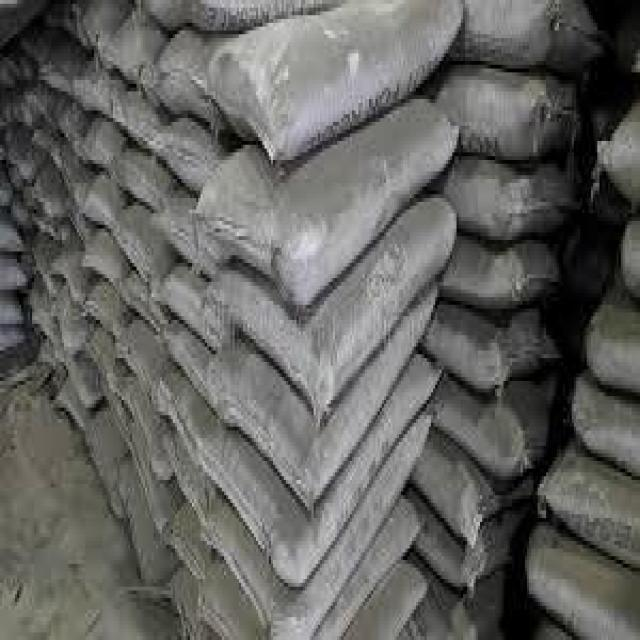gunny_bag: (188, 94, 458, 312), (207, 197, 462, 419), (200, 358, 437, 587), (210, 286, 440, 513), (204, 410, 431, 640), (215, 0, 464, 161), (528, 536, 639, 640), (432, 301, 560, 390), (545, 457, 640, 570), (451, 73, 577, 158), (458, 161, 573, 251), (438, 383, 551, 474), (463, 5, 605, 69), (153, 29, 229, 144), (417, 440, 492, 554), (450, 239, 559, 312), (571, 379, 638, 474), (154, 116, 233, 192), (155, 374, 209, 473), (163, 268, 225, 349), (113, 207, 170, 293), (105, 14, 159, 83), (116, 151, 170, 210), (161, 324, 208, 390), (115, 95, 162, 151)
